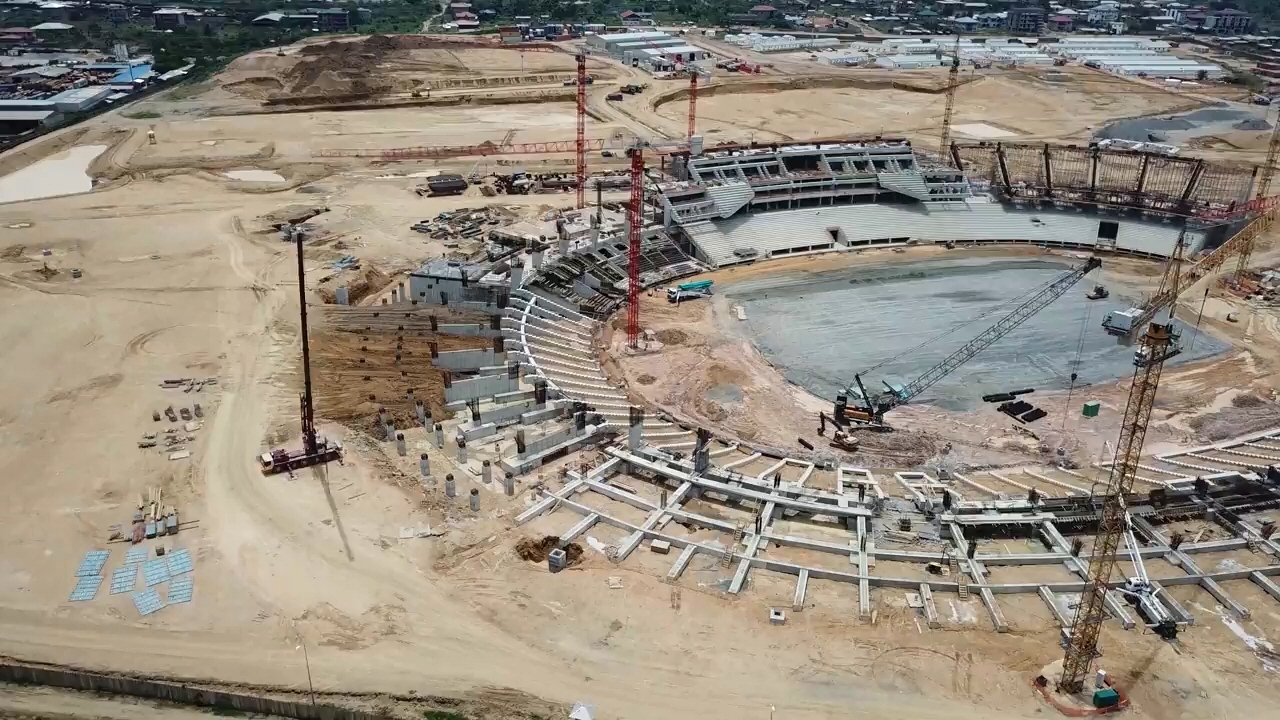ismakinesi: (811, 412, 863, 453)
kamyon: (246, 434, 349, 478), (667, 275, 719, 304)
